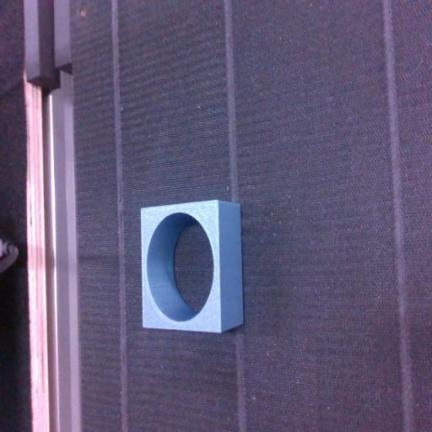square: (141, 200, 242, 332)
